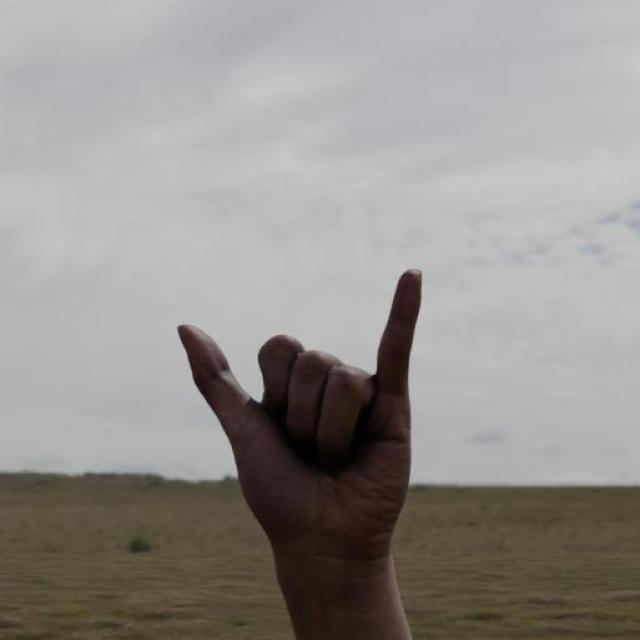Y: (178, 261, 427, 609)
